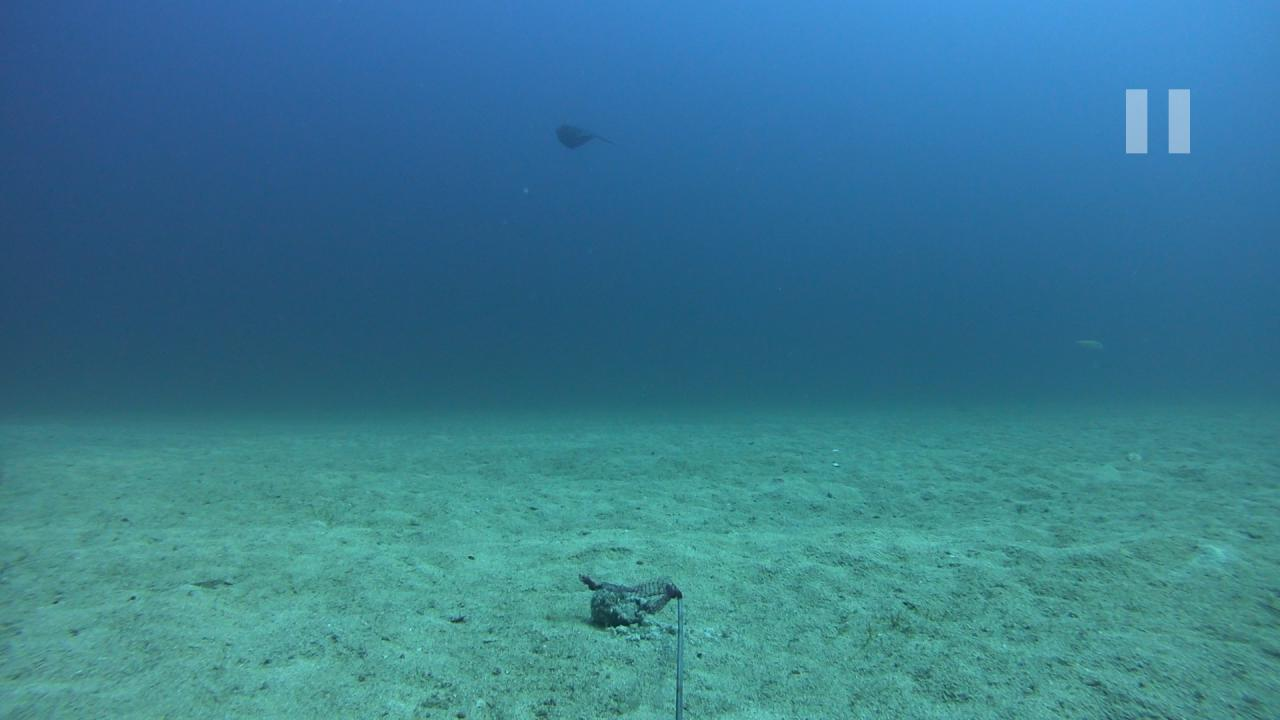dasyatis: (553, 122, 623, 149)
